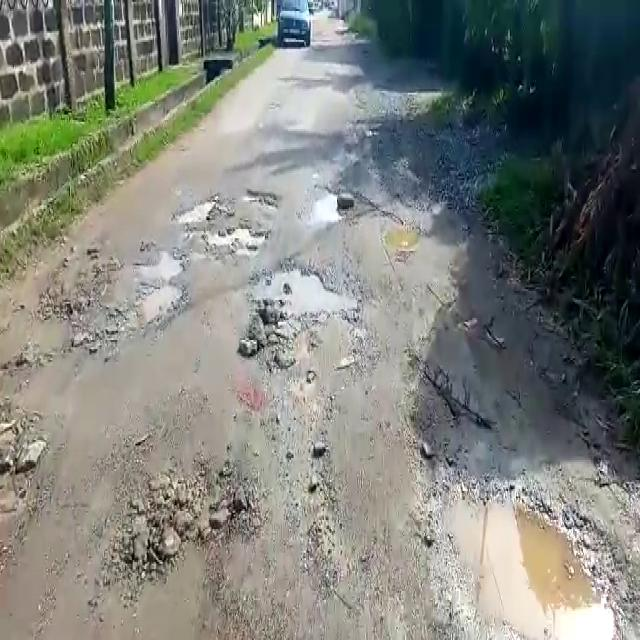Pothole: (428, 486, 640, 640), (259, 266, 361, 310), (140, 280, 188, 330), (197, 222, 270, 253), (129, 246, 184, 276), (172, 196, 220, 228), (383, 220, 423, 254), (308, 188, 345, 220), (241, 186, 283, 207)
